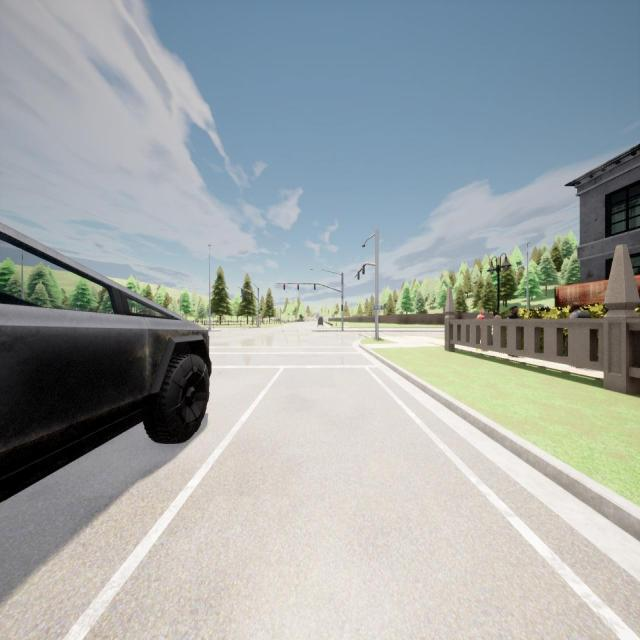Pedestrian: (566, 301, 592, 319), (504, 305, 520, 319), (491, 310, 501, 320), (477, 308, 485, 319)
Traffic_Signs: (373, 305, 382, 310), (316, 313, 319, 319)
Vehicle: (0, 223, 211, 501), (317, 317, 323, 326)
traffic_light: (362, 264, 364, 274), (358, 271, 360, 280), (341, 305, 343, 311), (283, 284, 285, 290), (297, 284, 299, 290), (314, 284, 316, 290), (246, 290, 248, 296), (241, 289, 243, 294), (258, 310, 260, 314), (251, 293, 252, 297)
